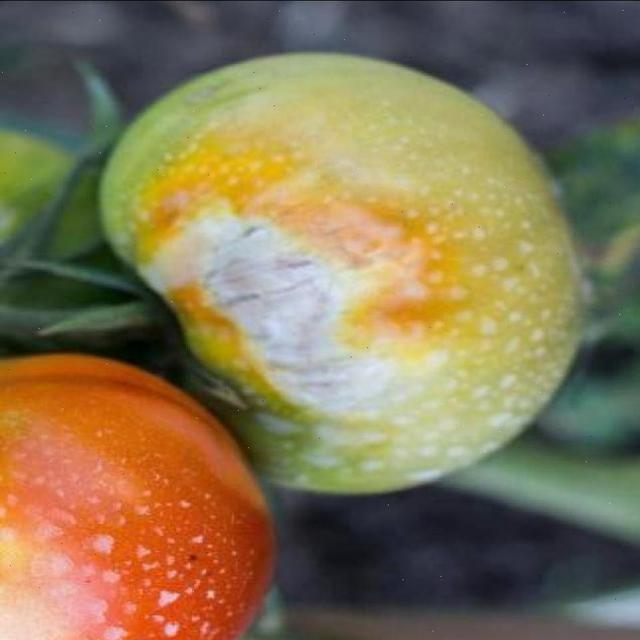Sunscald Fruit: (106, 109, 276, 288)
